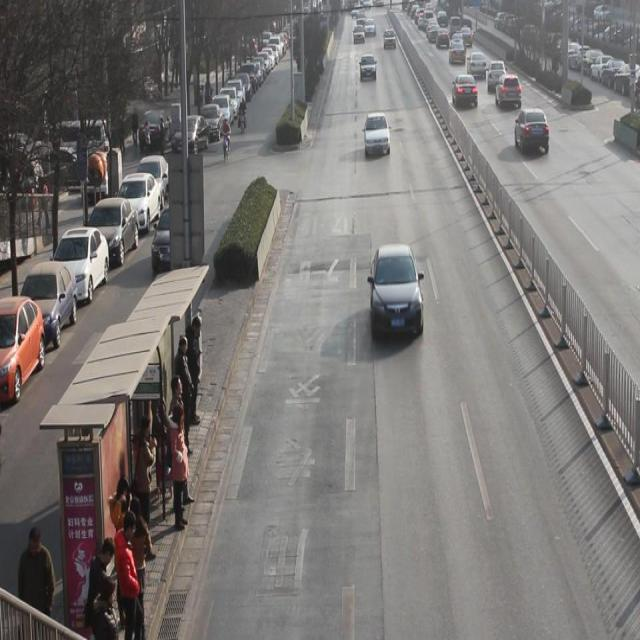car: (371, 244, 424, 341), (152, 198, 206, 275), (516, 109, 549, 154), (364, 114, 390, 160), (495, 74, 523, 111), (453, 74, 478, 109), (488, 59, 507, 92), (468, 52, 487, 81), (360, 52, 377, 84), (449, 41, 465, 67), (384, 29, 397, 52), (461, 27, 473, 49), (444, 28, 457, 47), (364, 18, 376, 38), (354, 25, 366, 45)
